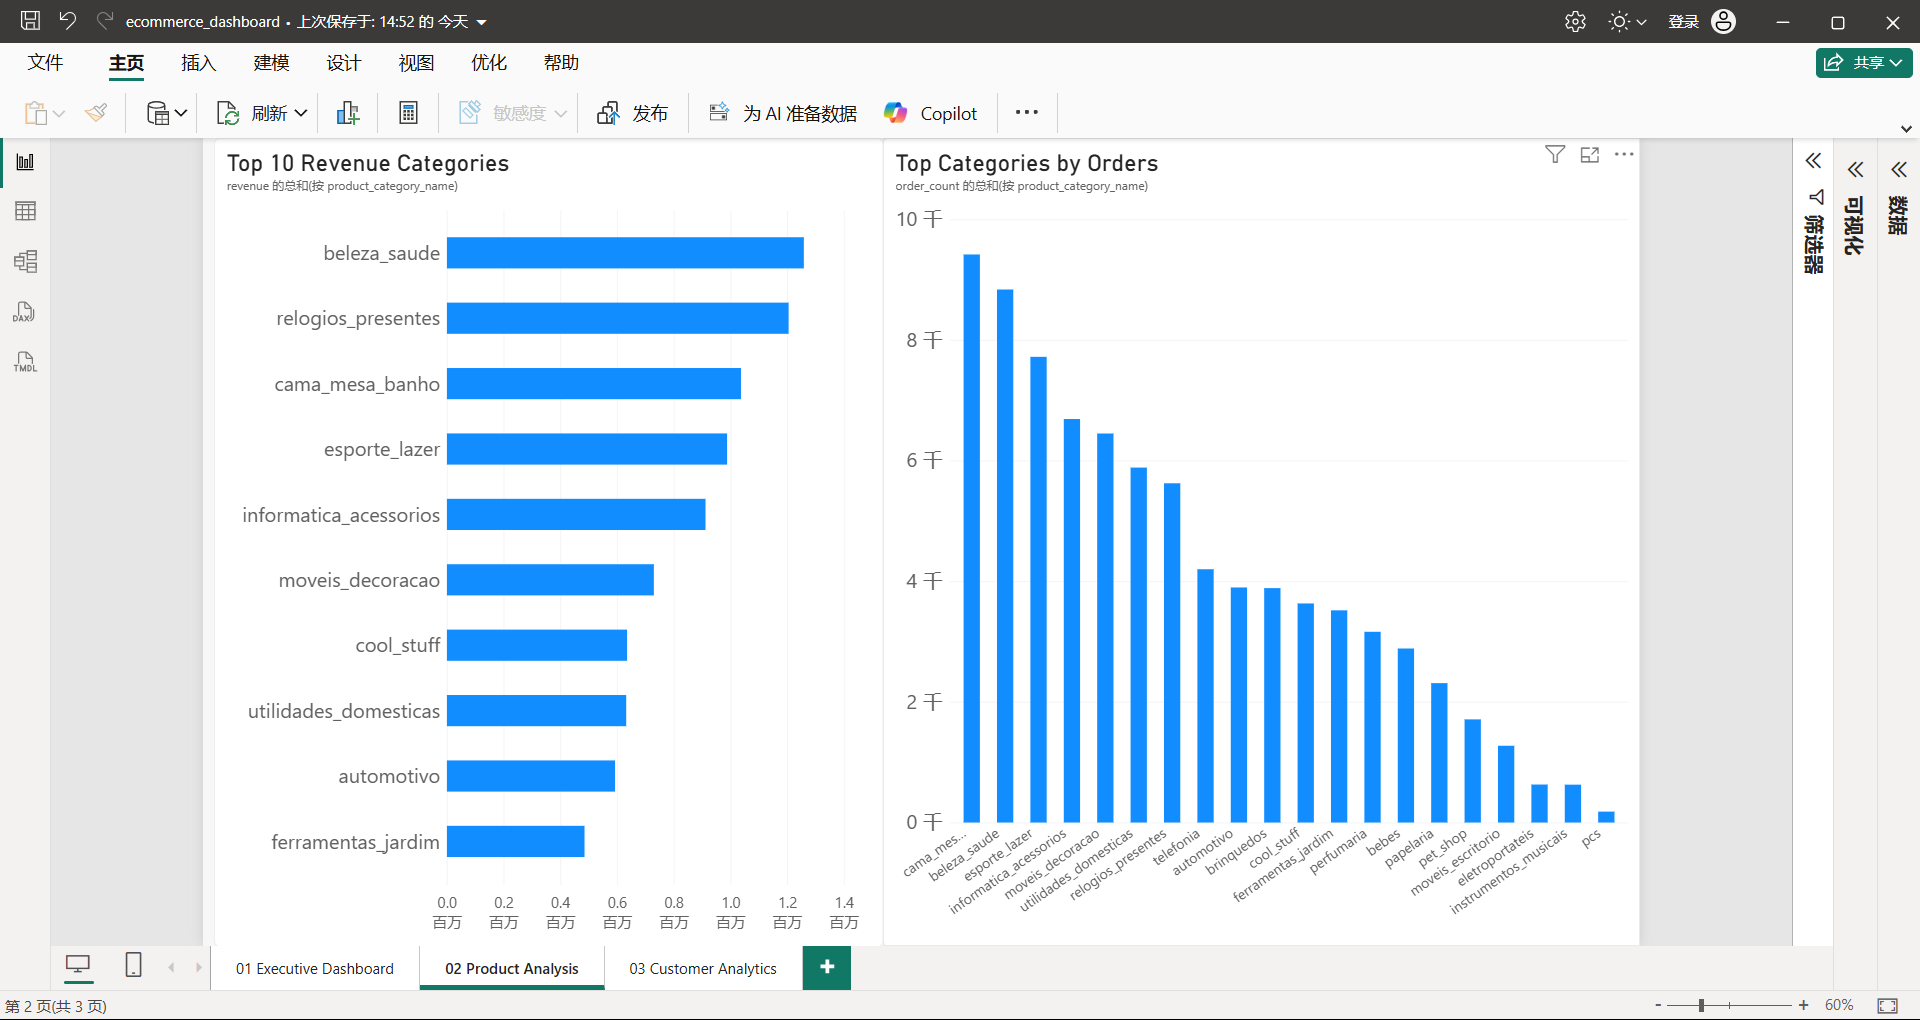

This screenshot's page, from the dashboard's own definition file:
{"tool":"powerbi","page":{"name":"02 Product Analysis","canvas":[1920,1080],"ordinal":1},"visuals":[{"type":"clusteredBarChart","title":"Top 10 Revenue Categories","fields":{"Category":["product_analysis.product_category_name"],"Y":["Sum(product_analysis.revenue)"]},"box":[14.4,0,893.3,1080.6],"z":0},{"type":"columnChart","title":"Top Categories by Orders","fields":{"Category":["product_analysis.product_category_name"],"Y":["Sum(product_analysis.order_count)"]},"box":[907.7,0,1012.7,1080.6],"z":1000}]}

Visuals, with their boxes on the page's 1920x1080 design canvas (x1, y1, x2, y2). These are canvas units, not pixel positions in the 1920x1020 screenshot, which may show the page scaled, cropped or inside an application window:
"Top 10 Revenue Categories" clusteredBarChart: {"left": 14, "top": 0, "right": 908, "bottom": 1081}
"Top Categories by Orders" columnChart: {"left": 908, "top": 0, "right": 1920, "bottom": 1081}
